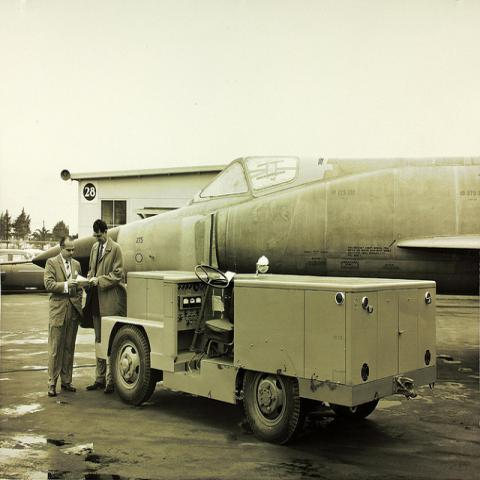car: (0, 248, 45, 288)
truck: (96, 255, 440, 442)
